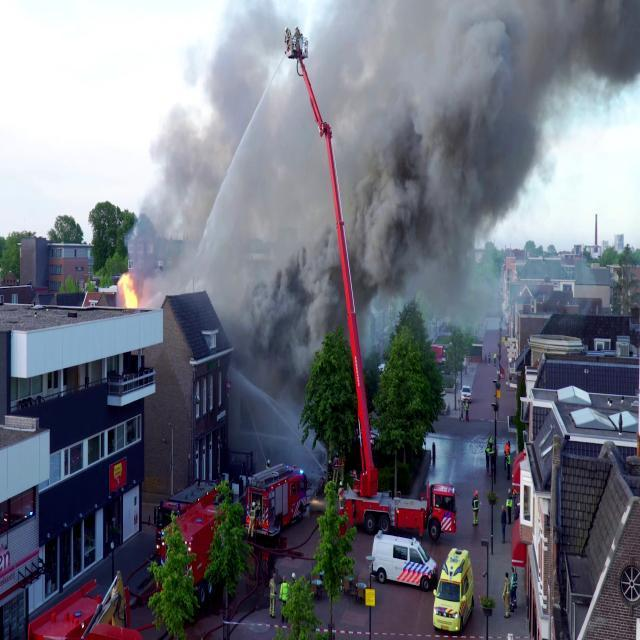Fire: (117, 266, 141, 314)
Smoke: (142, 0, 640, 331)
